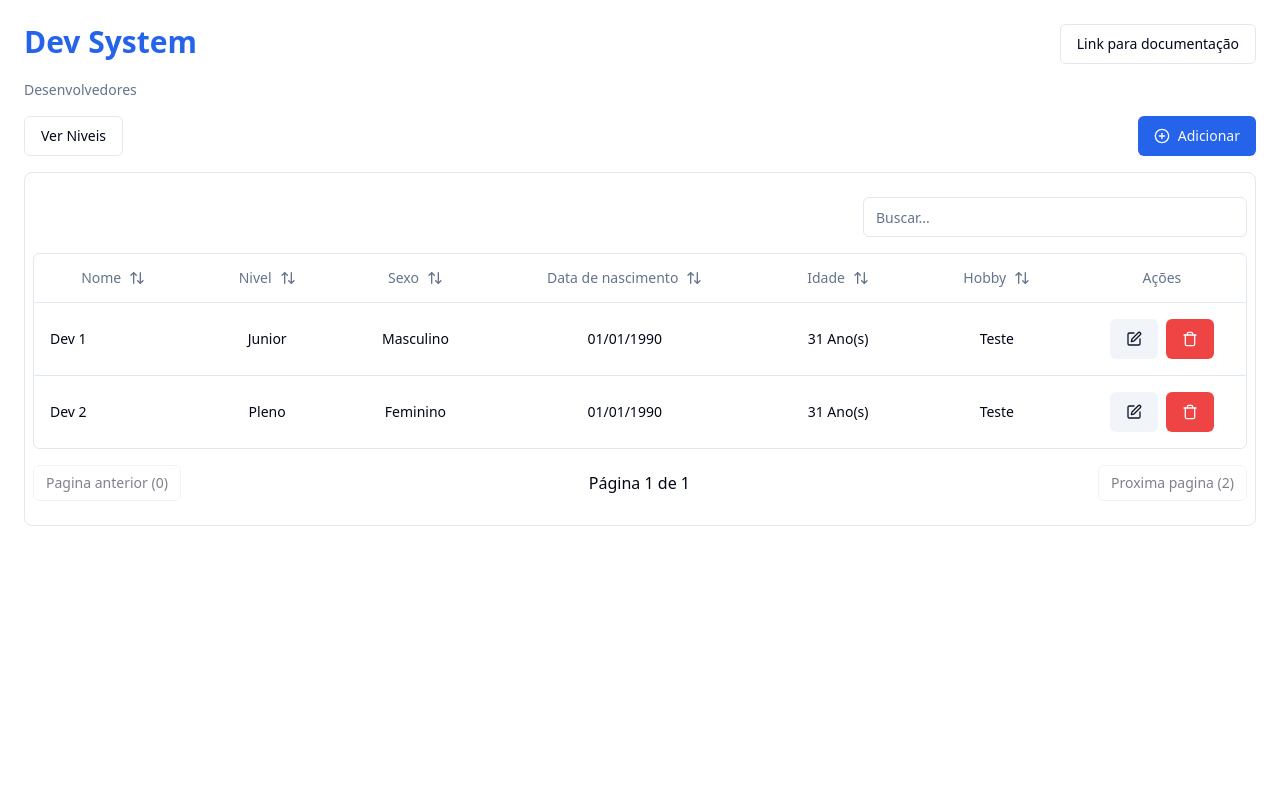
Test case: Desenvolvedores Page › should open DevForm modal when clicking on 'Adicionar' button
The width and height of the screenshot is (1280, 800).
Step 1. Click the button "Adicionar" → (1197, 136), box x1=1138 y1=116 x2=1256 y2=156
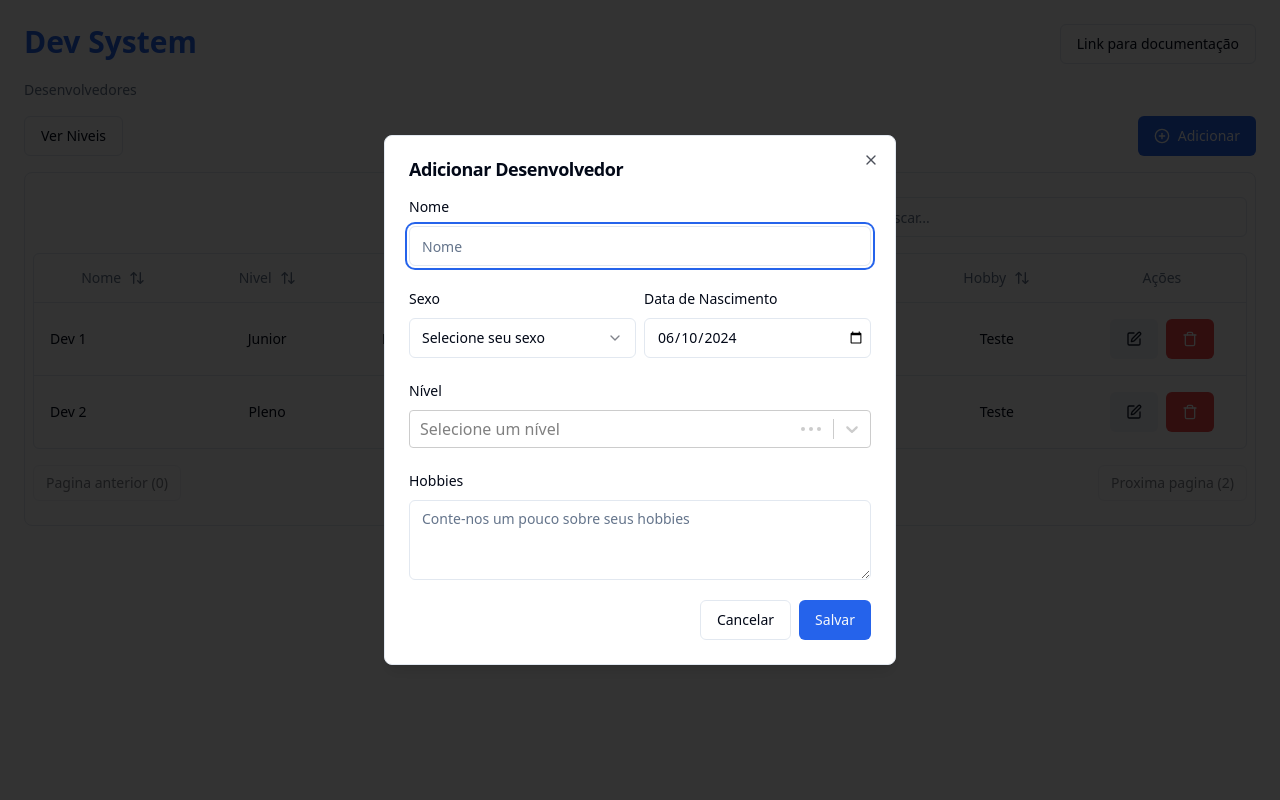
Now the heading "Adicionar Desenvolvedor" is shown, box x1=409 y1=157 x2=623 y2=181
